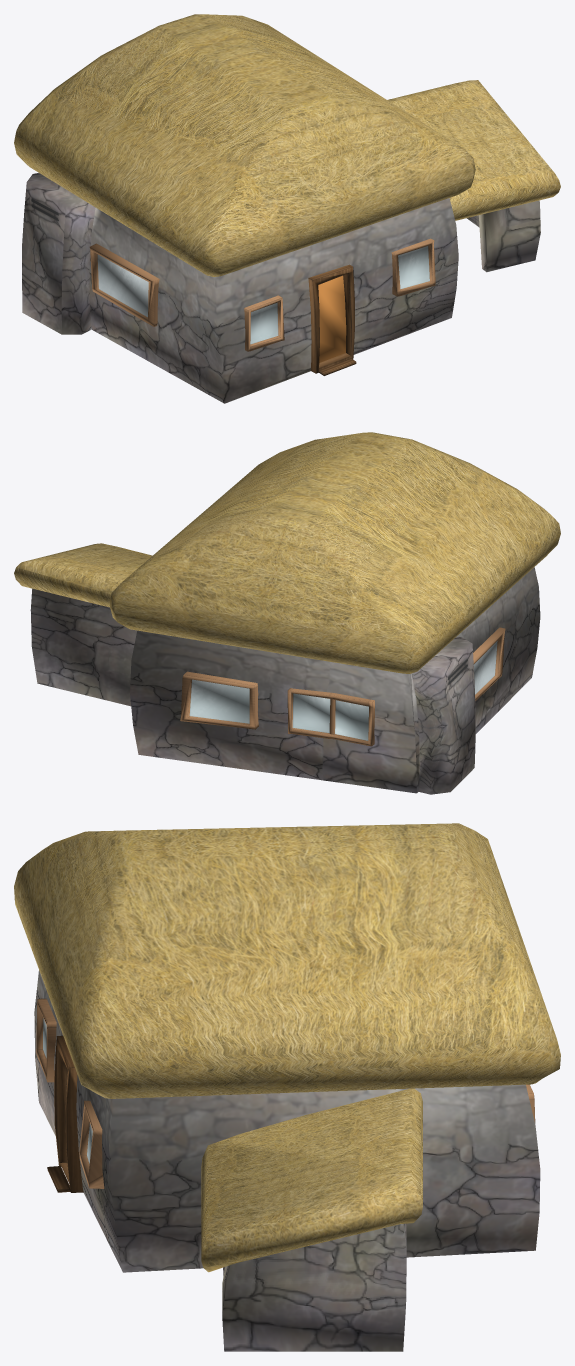
The model's file is CasaRust1 - prueba.fbx.
3 views of the same model, one above another, from view 1: azimuth 30°, elevation 25°; view 2: azimuth 150°, elevation 25°; view 3: azimuth 270°, elevation 25° (orthographic). The views are drawn at different scales.
Parts seen in each view (by area): view 1: CasaRust1, Puerta-Marco, PuertaTabla; view 2: CasaRust1; view 3: CasaRust1, Puerta-Marco.
Part boxes in pixels (bbox=[...]): CasaRust1: bbox=[14, 14, 560, 403]; Puerta-Marco: bbox=[308, 264, 356, 375]; PuertaTabla: bbox=[318, 275, 346, 362]; CasaRust1: bbox=[14, 432, 560, 794]; CasaRust1: bbox=[14, 823, 560, 1351]; Puerta-Marco: bbox=[47, 1035, 83, 1192].
Bounding box in the file's own units: 462 × 240 × 356.
